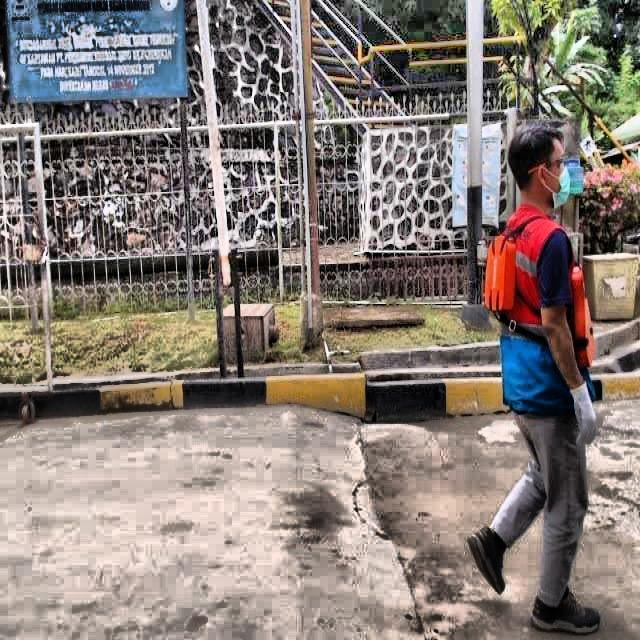safety_jacket: (487, 204, 599, 413)
